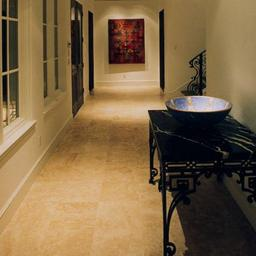Matera: (145, 111, 255, 252)
Puerta: (72, 4, 88, 107), (159, 14, 166, 90), (89, 15, 94, 90)
Ventana: (2, 2, 28, 132), (43, 2, 67, 104)
